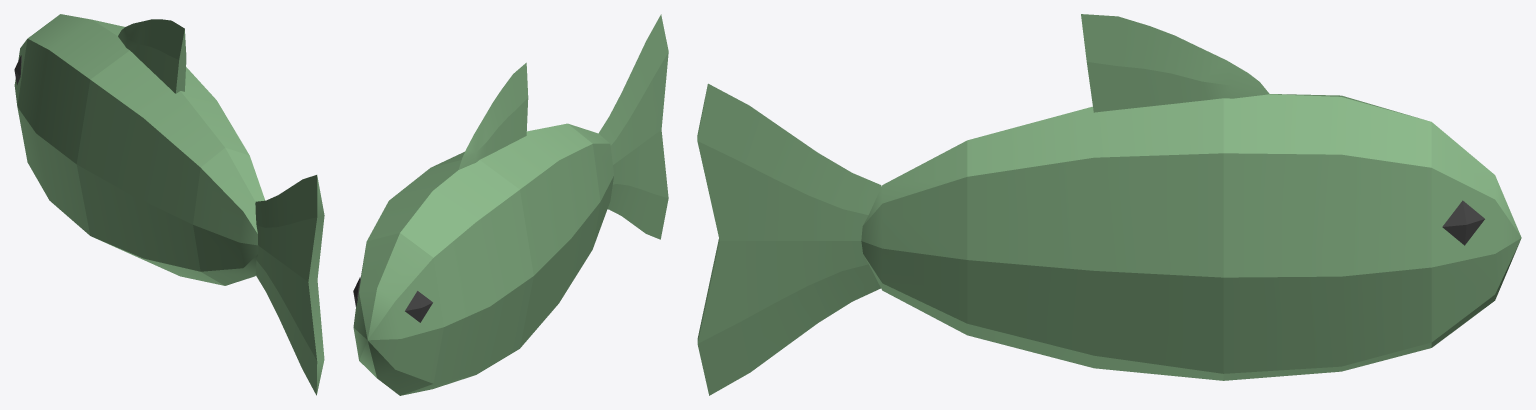
File: fish_export_01.fbx
3 renders of one model, left to right at view 1: azimuth 30°, elevation 25°; view 2: azimuth 150°, elevation 25°; view 3: azimuth 270°, elevation 25°, orthographic. The views are drawn at different scales.
Visible parts, largest first — view 1: polySurface10; view 2: polySurface10; view 3: polySurface10.
Boxes of the visible parts, box(x1,y1,x2,y2) form: polySurface10: box(14, 14, 324, 395); polySurface10: box(353, 14, 668, 395); polySurface10: box(697, 14, 1521, 395).
Bounding box in the file's own units: 0.0738 × 0.1657 × 0.3242.
